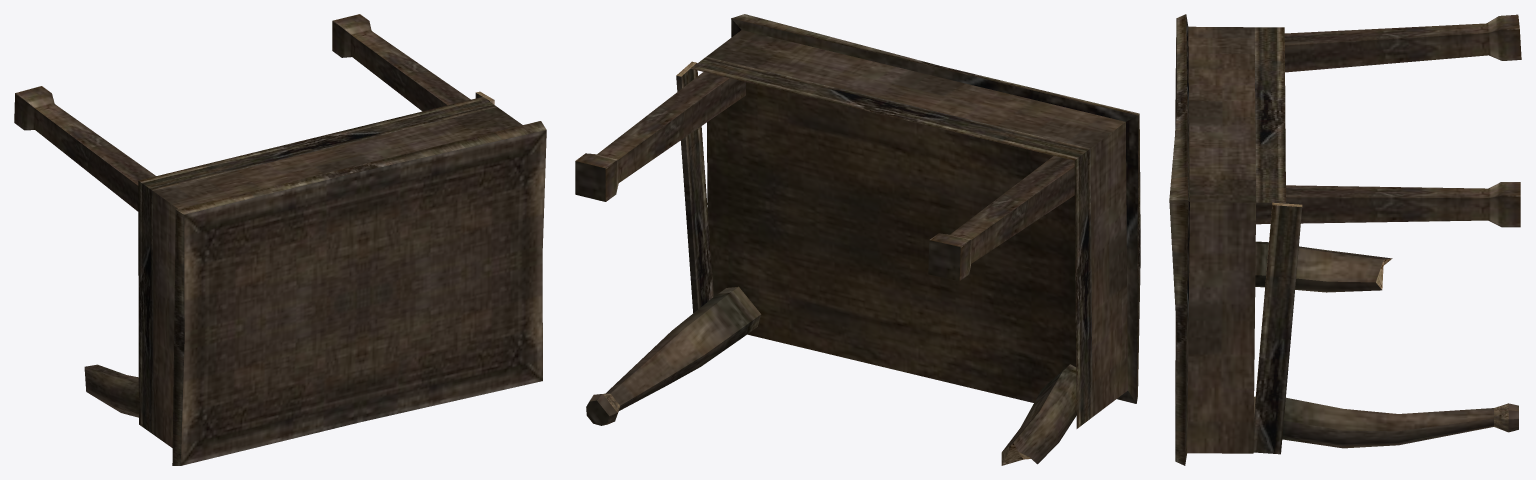
Rendered from furniture_sidetable1_d.glb.
3 renders of one model, left to right at view 1: azimuth 30°, elevation 25°; view 2: azimuth 150°, elevation 25°; view 3: azimuth 270°, elevation 25°, orthographic. The views are drawn at different scales.
Size of the model in its own units: 26.25 by 17.66 by 21.09.
1 material, 1 textured.
